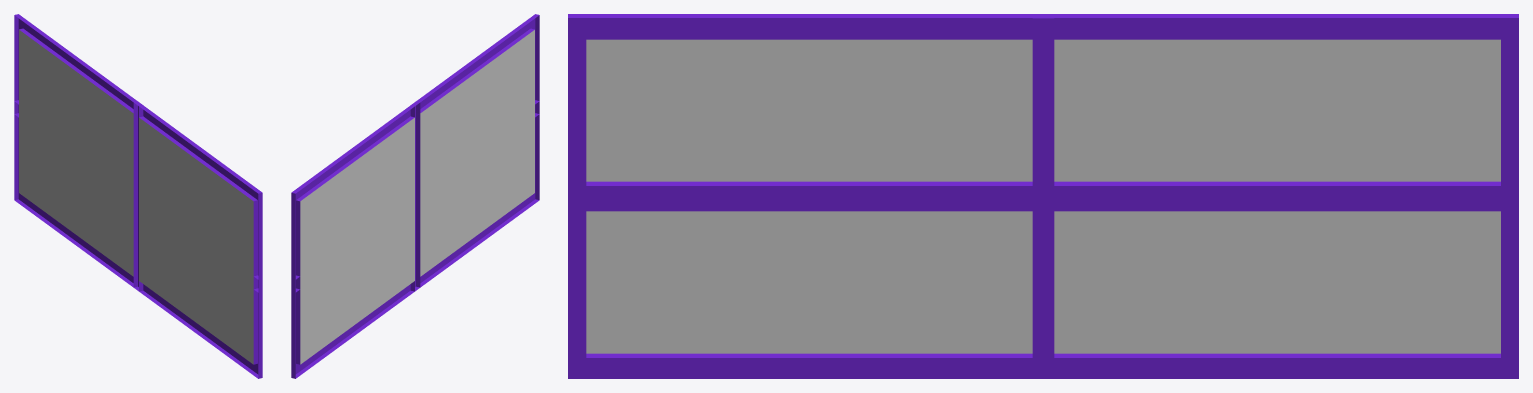
File: Ventana_cristal.fbx
3 renders of one model, left to right at view 1: azimuth 30°, elevation 25°; view 2: azimuth 150°, elevation 25°; view 3: azimuth 270°, elevation 25°, orthographic. The views are drawn at different scales.
Visible parts, largest first — view 1: Ventama_Arriba.003; view 2: Ventama_Arriba.003; view 3: Ventama_Arriba.003.
Boxes of the visible parts, x1=… form: Ventama_Arriba.003: x1=14, y1=14, x2=262, y2=378; Ventama_Arriba.003: x1=291, y1=14, x2=539, y2=378; Ventama_Arriba.003: x1=568, y1=14, x2=1518, y2=378.
Size of the model in its own units: 0.0121 by 0.4877 by 1.16.
